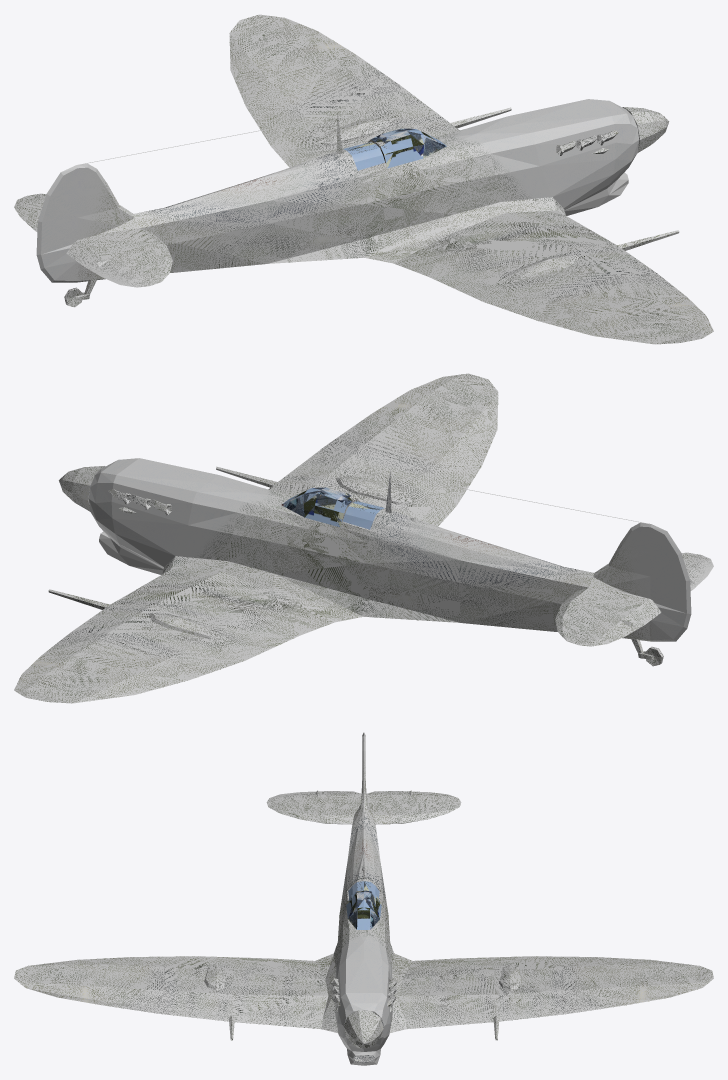
The picture shows the model from 3 angles, top to bottom: view 1: azimuth 30°, elevation 25°; view 2: azimuth 150°, elevation 25°; view 3: azimuth 270°, elevation 25°; orthographic projection. The views are drawn at different scales.
Visible parts, largest first — view 1: mesh6_mesh6-geometry, mesh19_mesh19-geometry, mesh4_mesh4-geometry, mesh26_mesh26-geometry, mesh2_mesh2-geometry; view 2: mesh6_mesh6-geometry, mesh19_mesh19-geometry, mesh2_mesh2-geometry, mesh26_mesh26-geometry, mesh4_mesh4-geometry; view 3: mesh6_mesh6-geometry, mesh19_mesh19-geometry, mesh26_mesh26-geometry.
Part boxes in pixels (box(x1,y1,x2,y2)): mesh6_mesh6-geometry: box(36, 14, 713, 344); mesh19_mesh19-geometry: box(14, 193, 172, 287); mesh4_mesh4-geometry: box(311, 117, 392, 147); mesh26_mesh26-geometry: box(622, 107, 669, 153); mesh2_mesh2-geometry: box(498, 255, 578, 283); mesh6_mesh6-geometry: box(14, 373, 691, 703); mesh19_mesh19-geometry: box(555, 552, 713, 646); mesh2_mesh2-geometry: box(336, 475, 416, 505); mesh26_mesh26-geometry: box(59, 466, 105, 511); mesh4_mesh4-geometry: box(149, 613, 230, 642); mesh6_mesh6-geometry: box(14, 732, 713, 1065); mesh19_mesh19-geometry: box(266, 791, 461, 824); mesh26_mesh26-geometry: box(343, 1010, 383, 1048).
Bounding box in the file's own units: 0.6284 × 0.1563 × 0.762.
